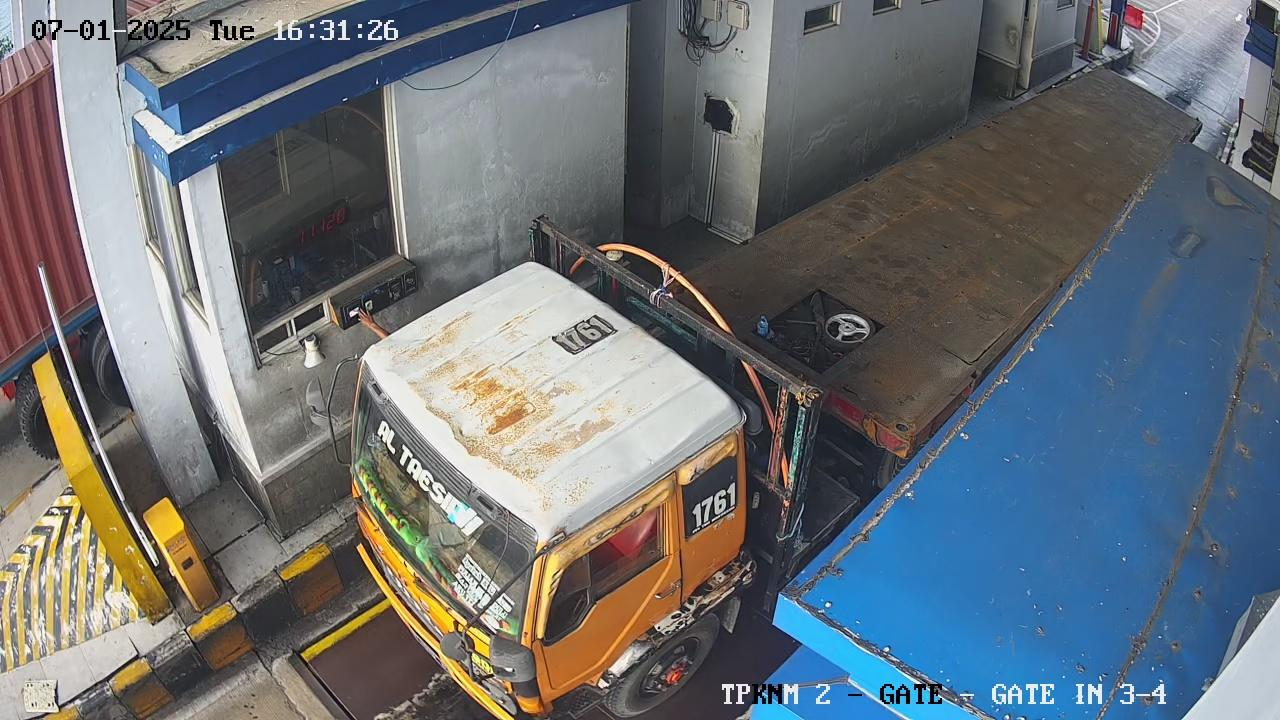truck_id: (682, 456, 757, 541), (551, 313, 618, 354)
